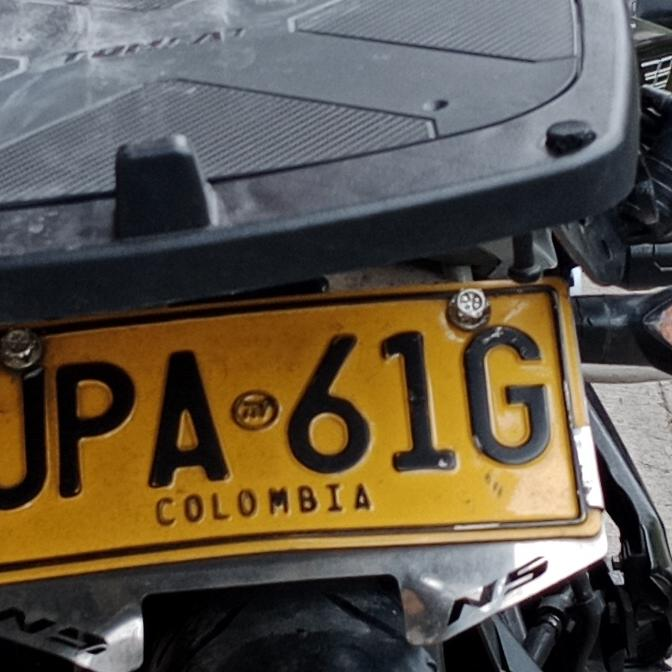plates: (0, 283, 614, 599)
